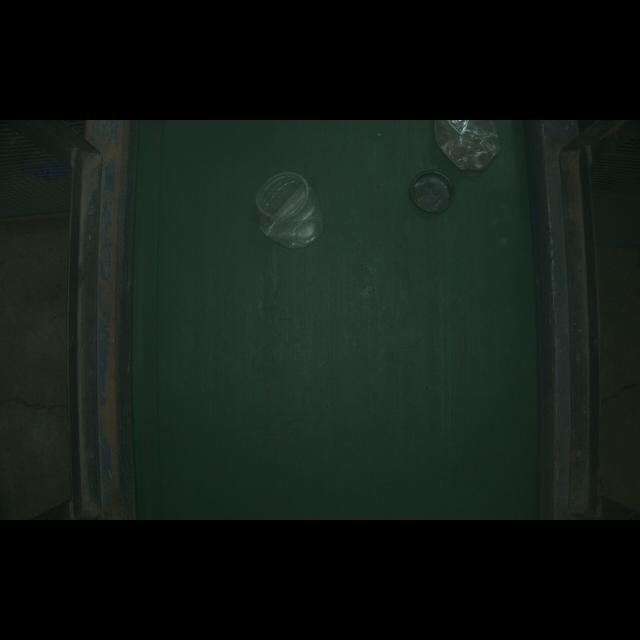mix rigid: (242, 174, 328, 248), (431, 114, 504, 176), (397, 163, 460, 220)
